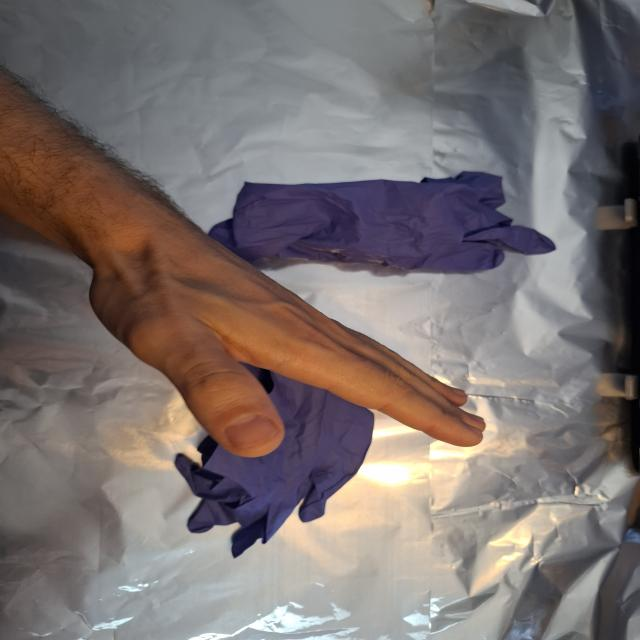glove_off: (80, 204, 488, 460)
